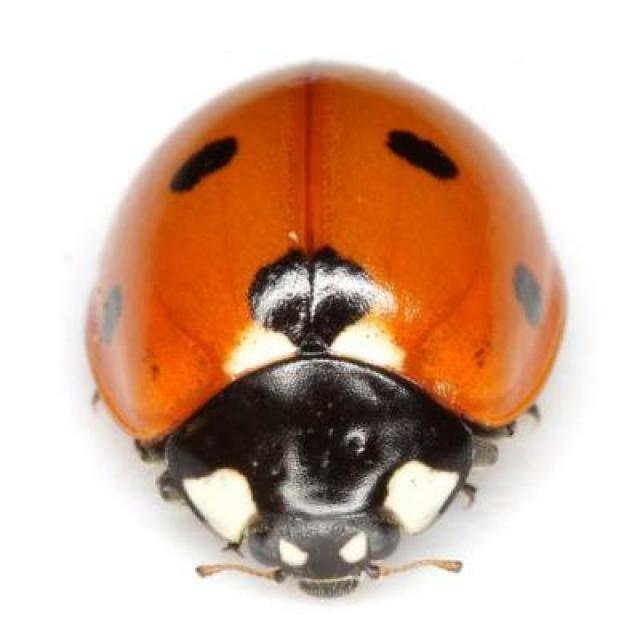antennae: (169, 534, 486, 598)
body: (85, 60, 567, 596)
insect: (84, 58, 573, 600)
wings: (86, 60, 568, 434)
